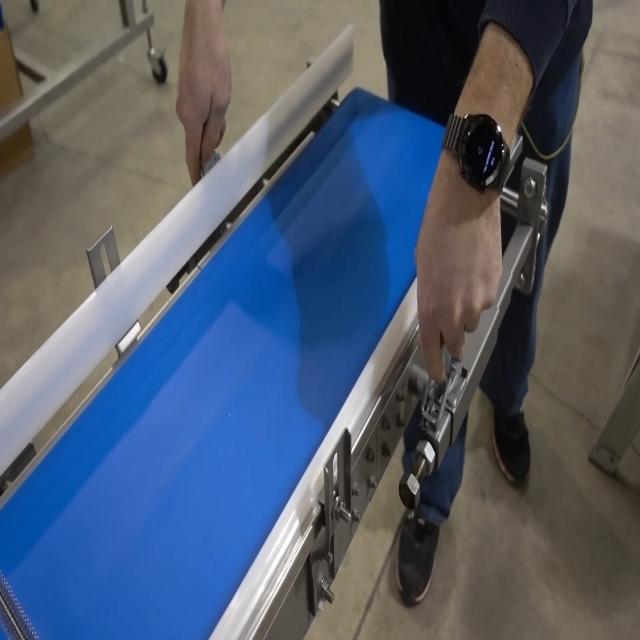Convoyeur: (0, 44, 556, 640)
